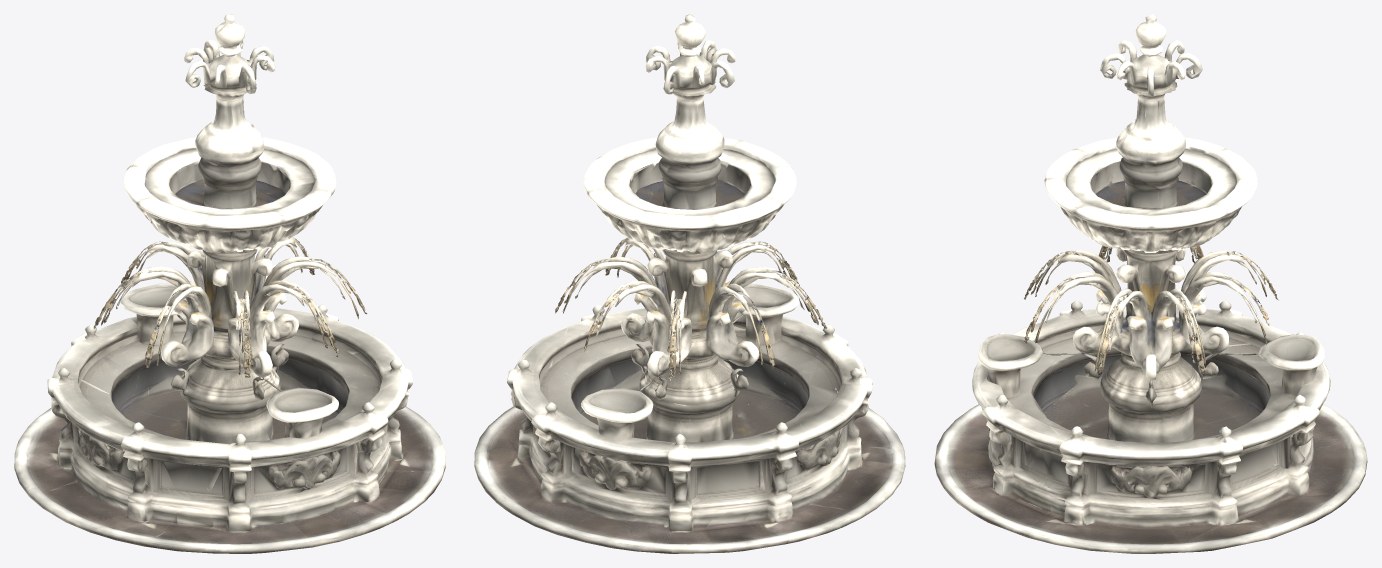
Rendered from fountain.glb.
The picture shows the model from 3 angles, left to right: view 1: azimuth 30°, elevation 25°; view 2: azimuth 150°, elevation 25°; view 3: azimuth 270°, elevation 25°; orthographic projection.
Size of the model in its own units: 1.67 by 1.91 by 1.67.
Materials: 1 (1 with a texture image).
